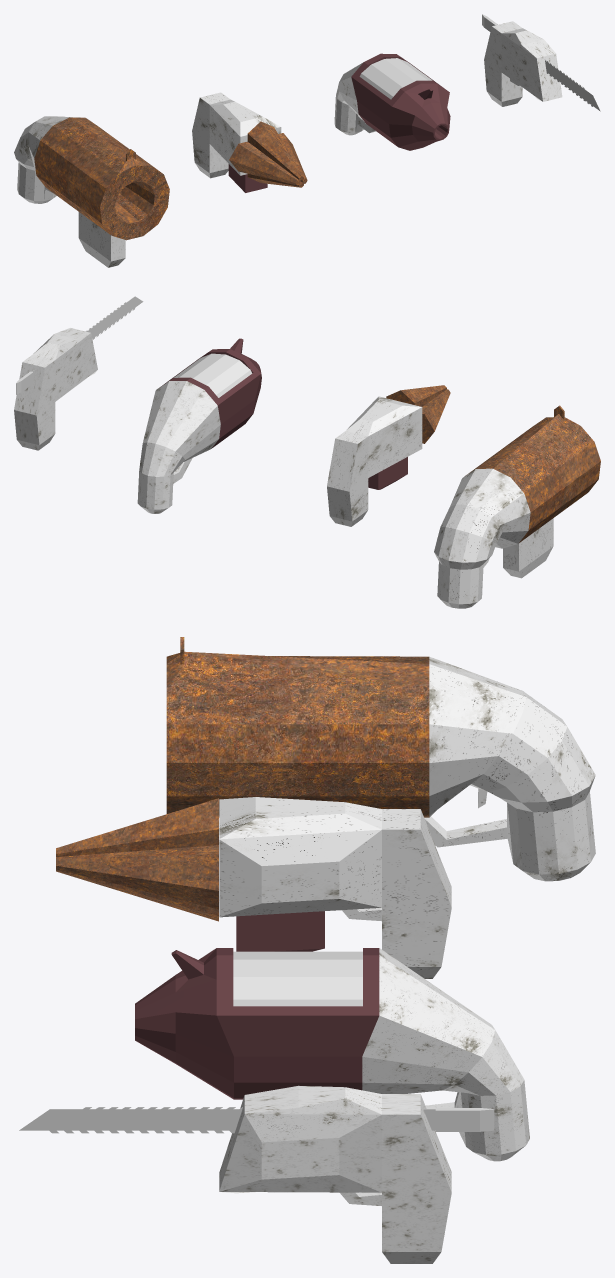
File: Weapons.fbx
3 views of the same model, one above another, from view 1: azimuth 30°, elevation 25°; view 2: azimuth 150°, elevation 25°; view 3: azimuth 270°, elevation 25° (orthographic). The views are drawn at different scales.
Visible parts, largest first — view 1: Cylinder, Cylinder.002, Cube.001, Cube, Cylinder.001, Cube.002; view 2: Cylinder, Cylinder.002, Cube, Cube.001, Cylinder.001, Cube.002; view 3: Cylinder, Cylinder.002, Cube, Cube.001, Cylinder.001, Cube.002.
Part boxes in pixels (x1=…): Cylinder: x1=14, y1=116, x2=169, y2=267; Cylinder.002: x1=334, y1=53, x2=450, y2=150; Cube.001: x1=484, y1=21, x2=562, y2=106; Cube: x1=192, y1=92, x2=281, y2=192; Cylinder.001: x1=229, y1=121, x2=307, y2=187; Cube.002: x1=482, y1=14, x2=600, y2=111; Cylinder: x1=434, y1=405, x2=600, y2=608; Cylinder.002: x1=137, y1=338, x2=261, y2=513; Cube: x1=327, y1=396, x2=422, y2=526; Cube.001: x1=14, y1=328, x2=97, y2=450; Cylinder.001: x1=386, y1=385, x2=450, y2=443; Cube.002: x1=16, y1=296, x2=143, y2=394; Cylinder: x1=166, y1=637, x2=595, y2=881; Cylinder.002: x1=135, y1=948, x2=529, y2=1161; Cube: x1=219, y1=797, x2=451, y2=978; Cube.001: x1=219, y1=1085, x2=451, y2=1263; Cylinder.001: x1=56, y1=798, x2=218, y2=921; Cube.002: x1=19, y1=1107, x2=494, y2=1133.
Size of the model in its own units: 1364 by 354 by 709.
